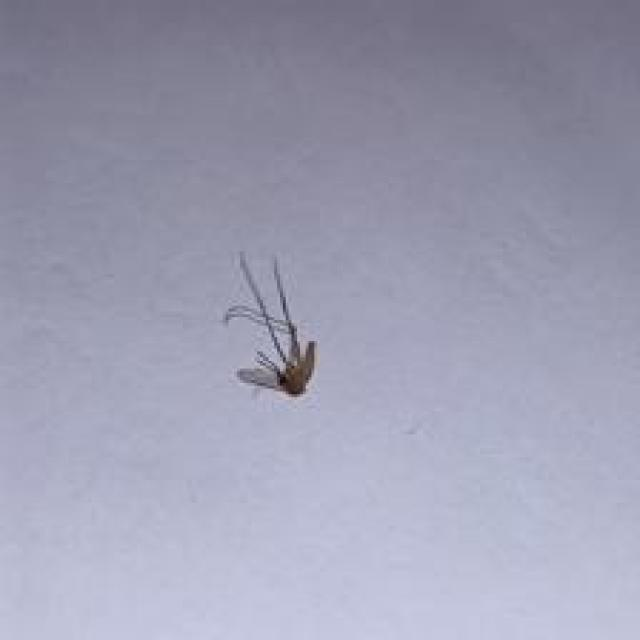Culex: (222, 250, 318, 399)
